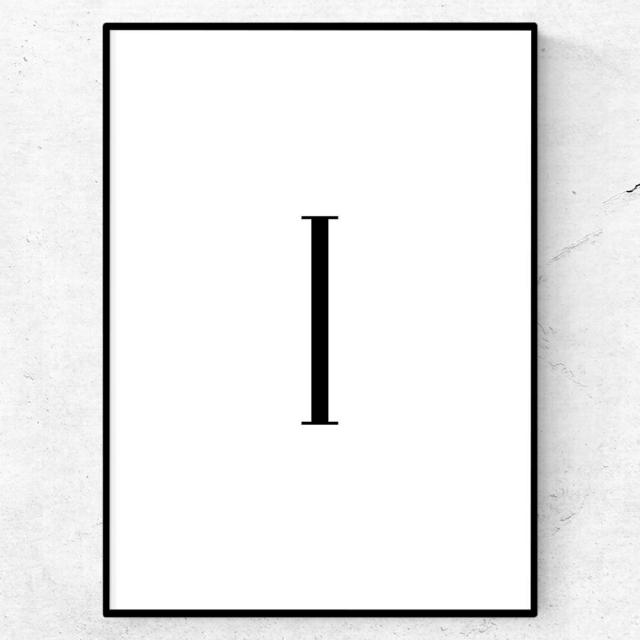I: (262, 163, 398, 508)
